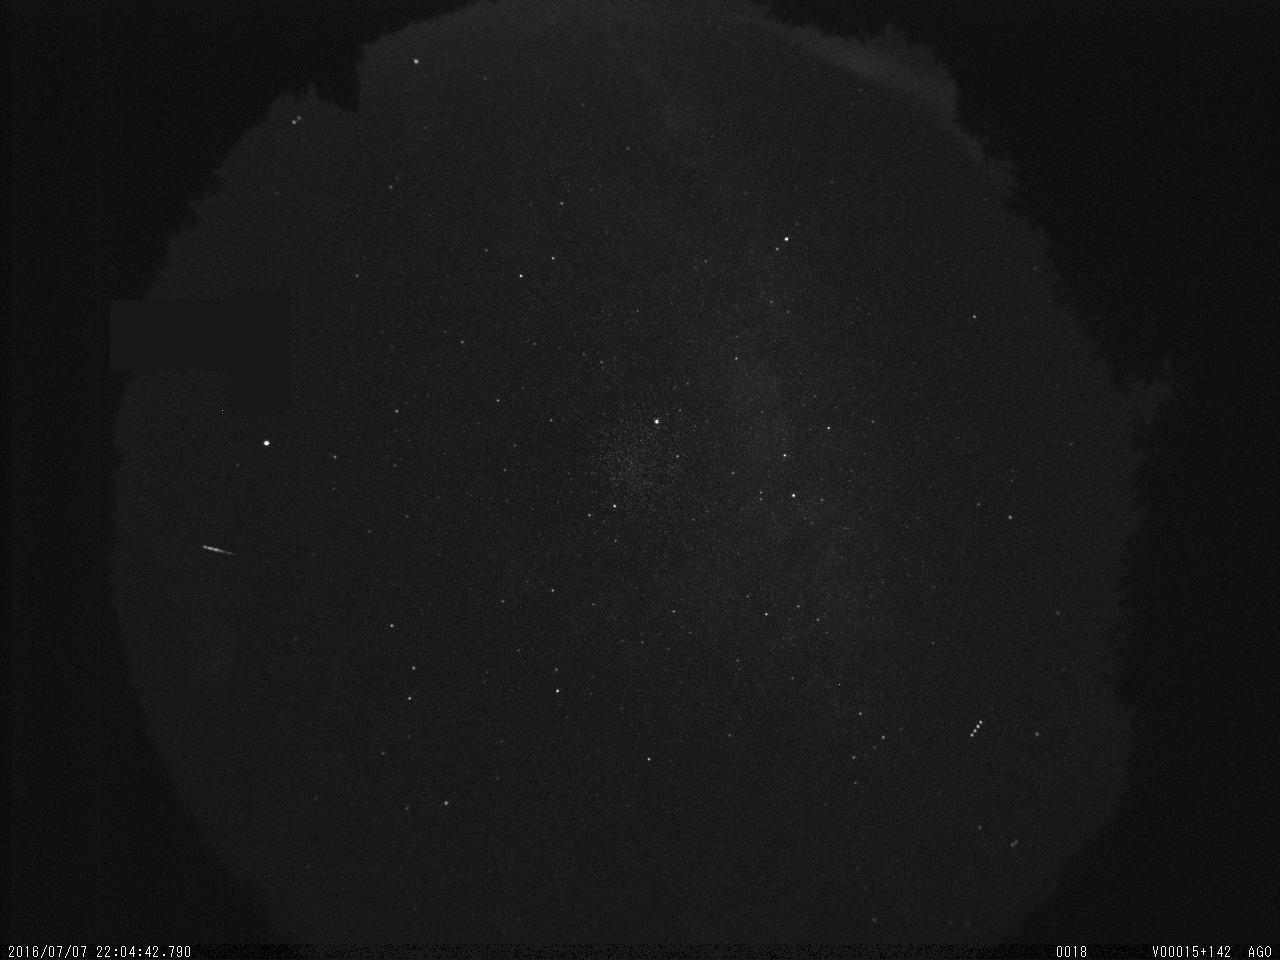meteor: (185, 531, 261, 580)
